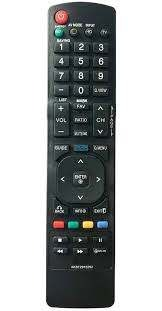remote control: (47, 3, 117, 310)
